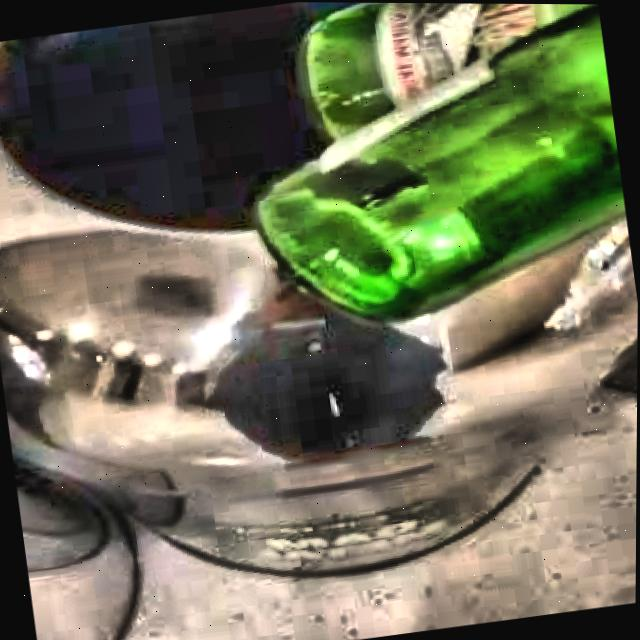glass: (256, 2, 626, 319)
